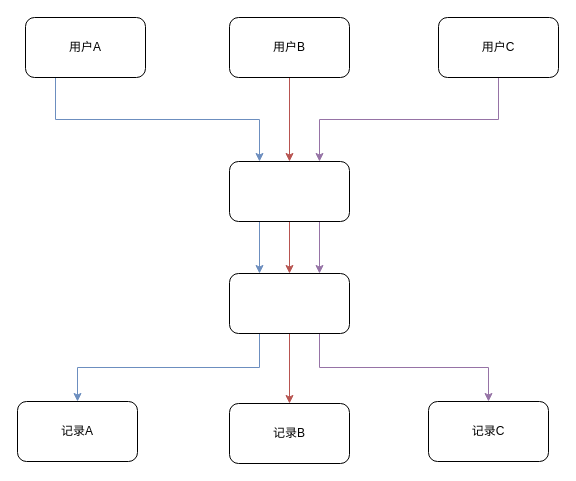
This 576x481 diagram has some shape labels left out. Each missing label, with the centre of its shape:
"客户端" goes at (289,303).
"摄像头" goes at (289,191).
